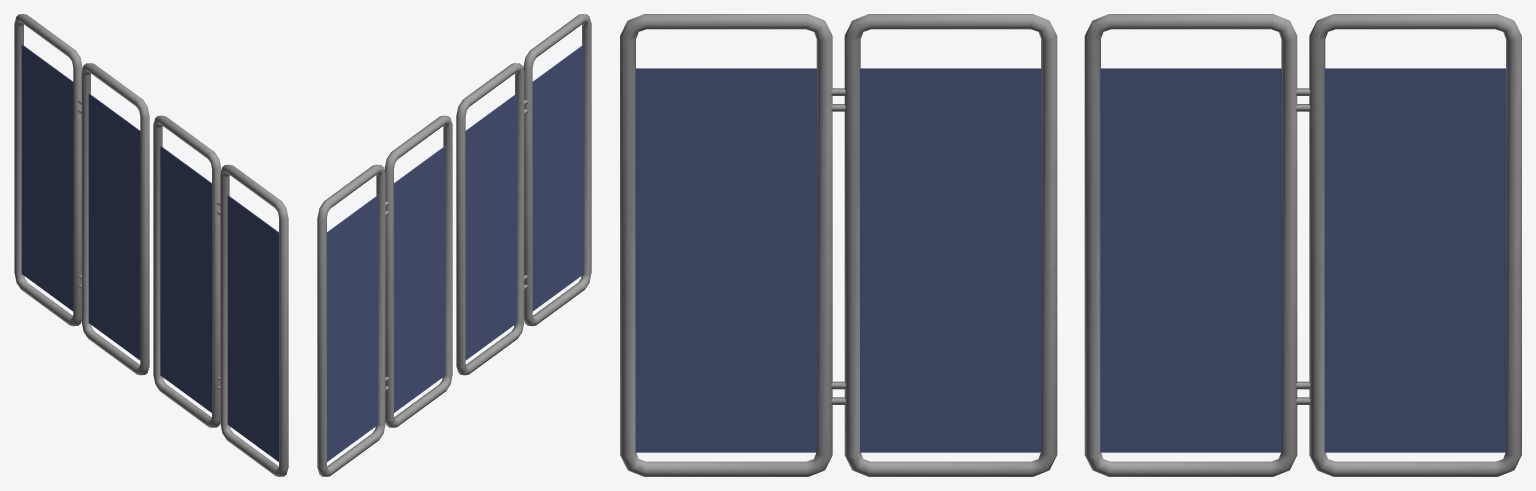
File: wall.glb
3 renders of one model, left to right at view 1: azimuth 30°, elevation 25°; view 2: azimuth 150°, elevation 25°; view 3: azimuth 270°, elevation 25°, orthographic. The views are drawn at different scales.
Parts seen in each view (by area): view 1: Curtain-material, Curtain-material.002; view 2: Curtain-material.002, Curtain-material; view 3: Curtain-material, Curtain-material.002.
Boxes of the visible parts, bbox=[...] form: Curtain-material: bbox=[153, 115, 288, 476]; Curtain-material.002: bbox=[14, 14, 149, 375]; Curtain-material.002: bbox=[317, 115, 452, 476]; Curtain-material: bbox=[456, 14, 591, 375]; Curtain-material: bbox=[620, 14, 1057, 476]; Curtain-material.002: bbox=[1084, 14, 1521, 476].
Size of the model in its own units: 0.0103 by 0.3205 by 0.5667.
Materials: 2 (2 with a texture image).
